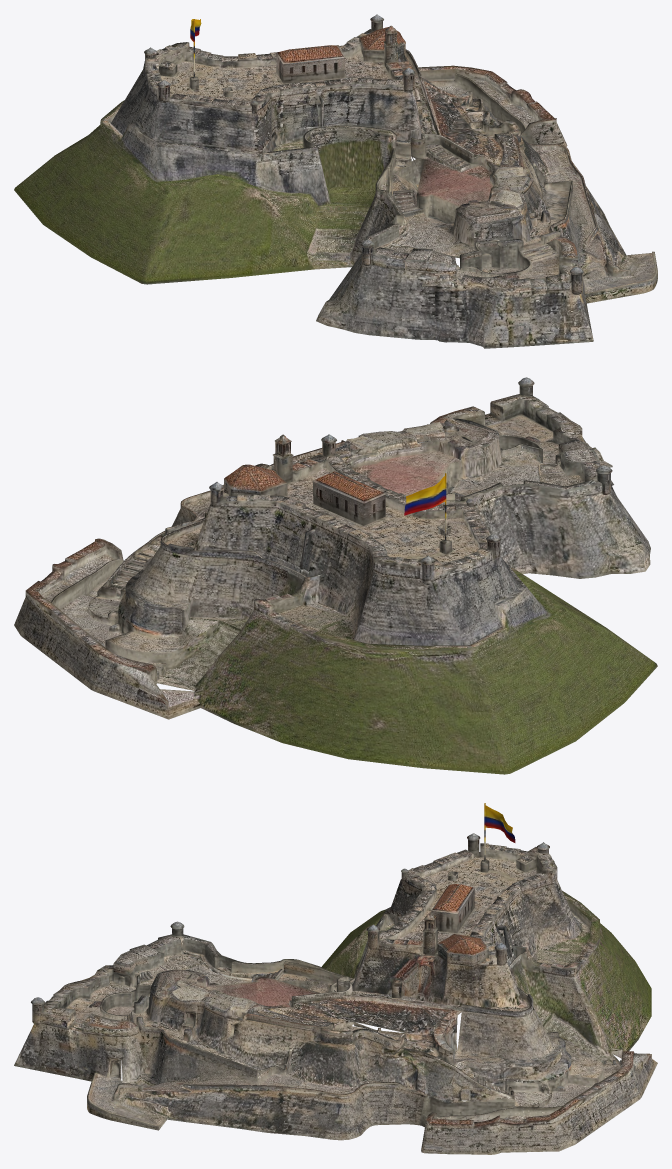
File: castillo-san-felipe.glb
3 renders of one model, top to bottom at view 1: azimuth 30°, elevation 25°; view 2: azimuth 150°, elevation 25°; view 3: azimuth 270°, elevation 25°, orthographic. The views are drawn at different scales.
Parts seen in each view (by area): view 1: tripo_node_9364b279-1b23-401d-aebf-1f5fad2ebb42; view 2: tripo_node_9364b279-1b23-401d-aebf-1f5fad2ebb42; view 3: tripo_node_9364b279-1b23-401d-aebf-1f5fad2ebb42.
Boxes of the visible parts, left/top/right/bottom form: tripo_node_9364b279-1b23-401d-aebf-1f5fad2ebb42: left=14, top=14, right=657, bottom=348; tripo_node_9364b279-1b23-401d-aebf-1f5fad2ebb42: left=14, top=377, right=657, bottom=774; tripo_node_9364b279-1b23-401d-aebf-1f5fad2ebb42: left=14, top=803, right=657, bottom=1154.
Size of the model in its own units: 0.8462 by 0.3179 by 0.9995.
1 material, 1 textured.
